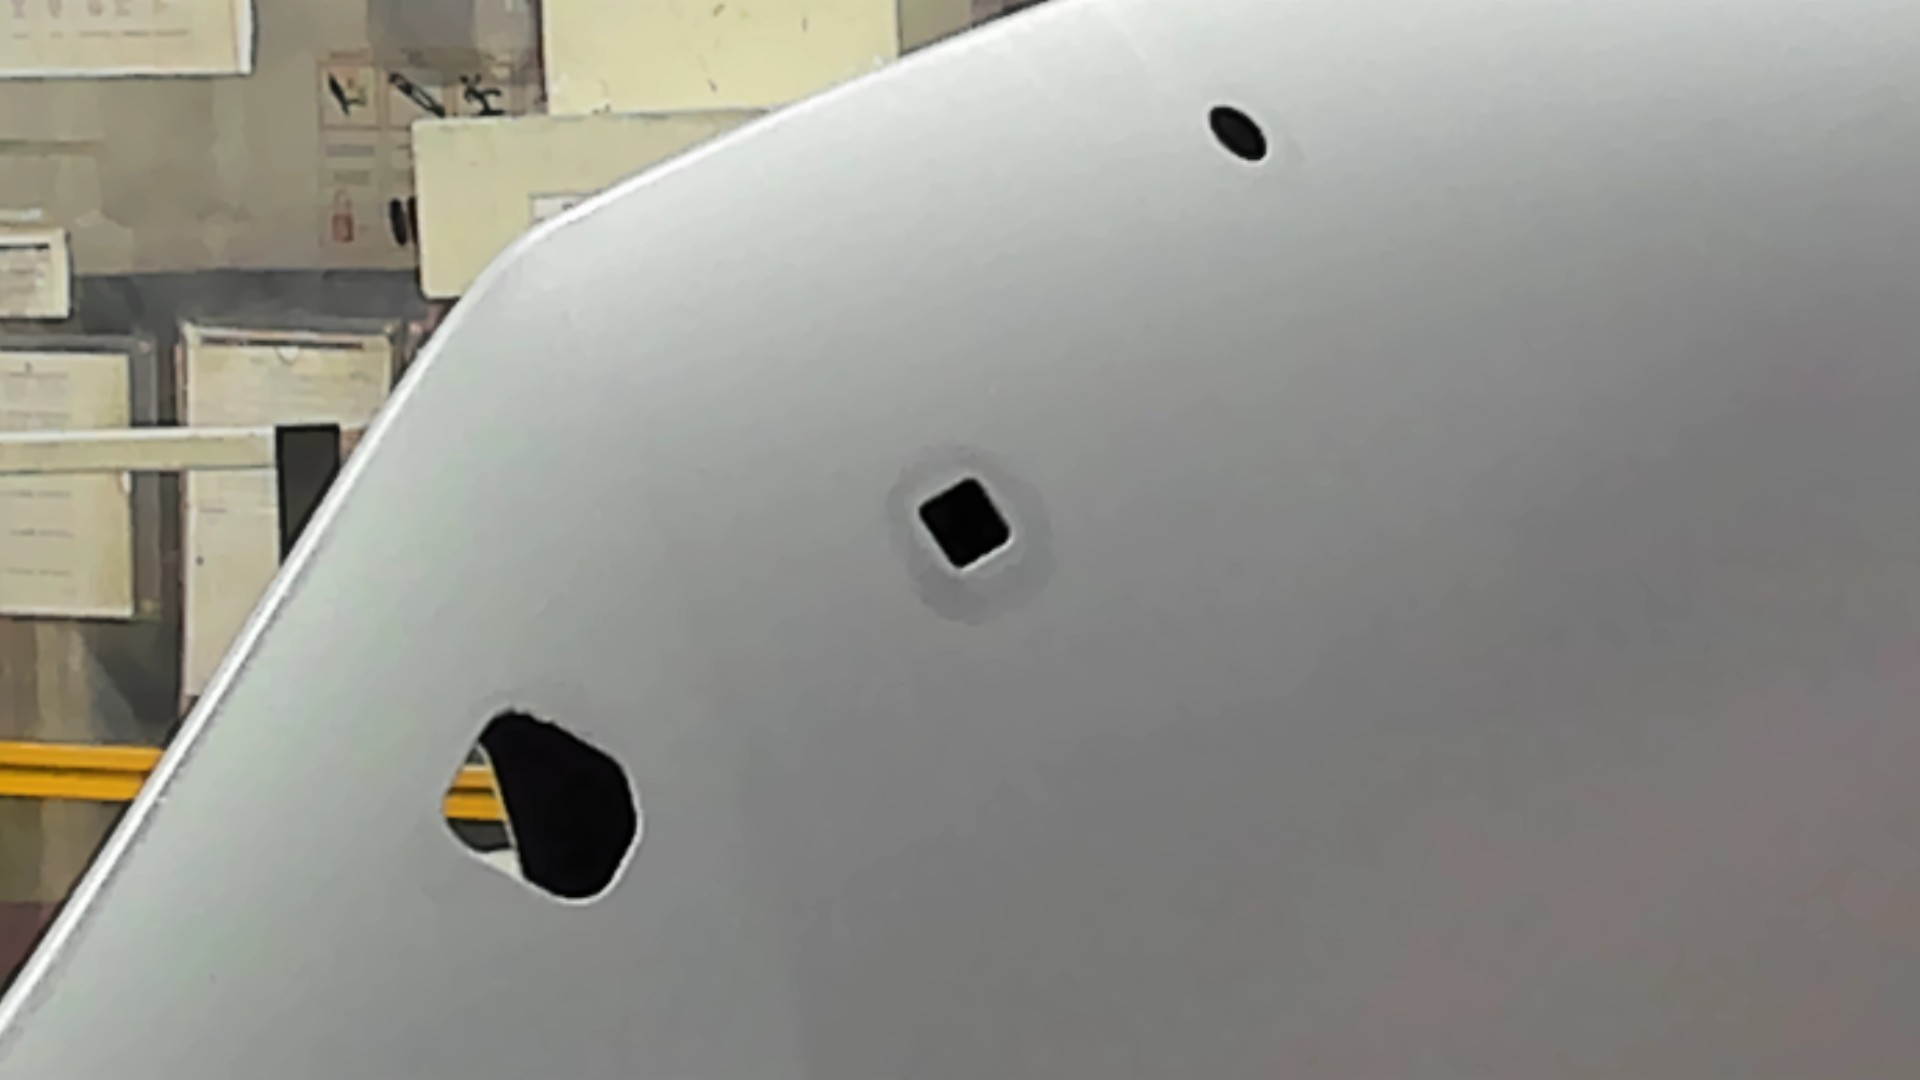chico: (1205, 100, 1271, 167)
grande: (436, 705, 646, 911)
mediano: (913, 469, 1021, 582)
